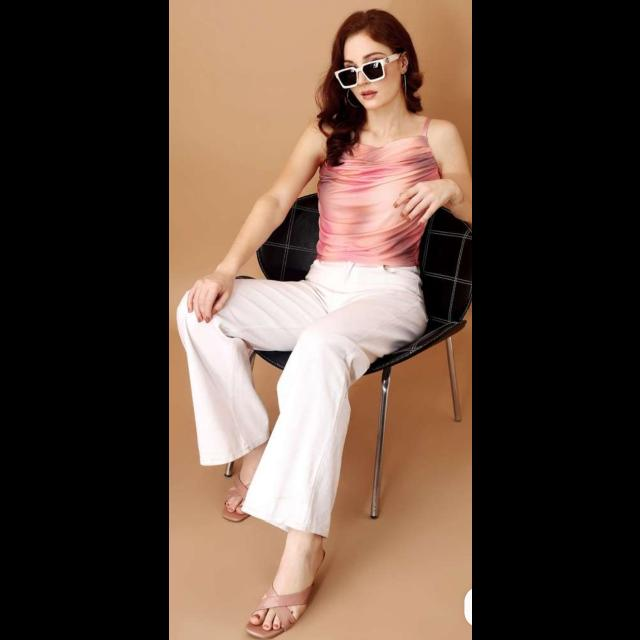bottom: (177, 254, 409, 526)
top: (301, 112, 444, 274)
